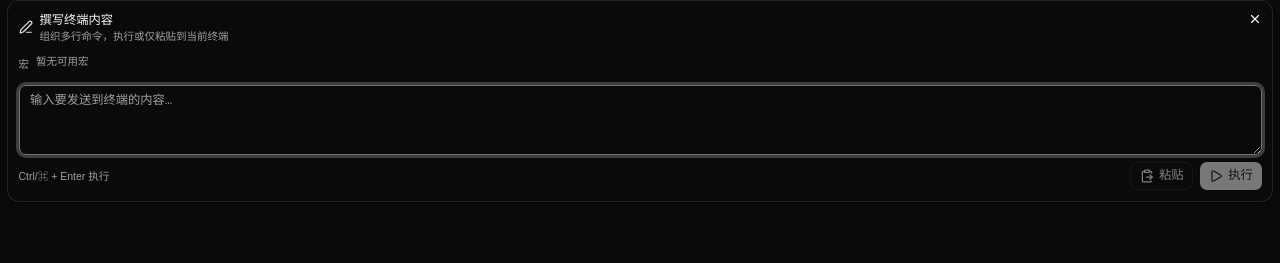
TerminalComposePanel › supports keyboard execution and preserves input when execution fails
Type "whoami" into the text box named "撰写终端内容".
click(640, 120); type("whoami")  # box [18,85,1262,155]
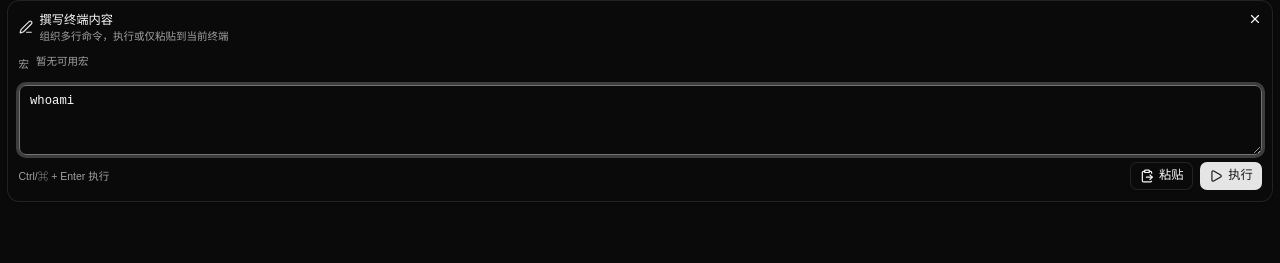
Type keys "{Control>}{Enter}{/Control}"
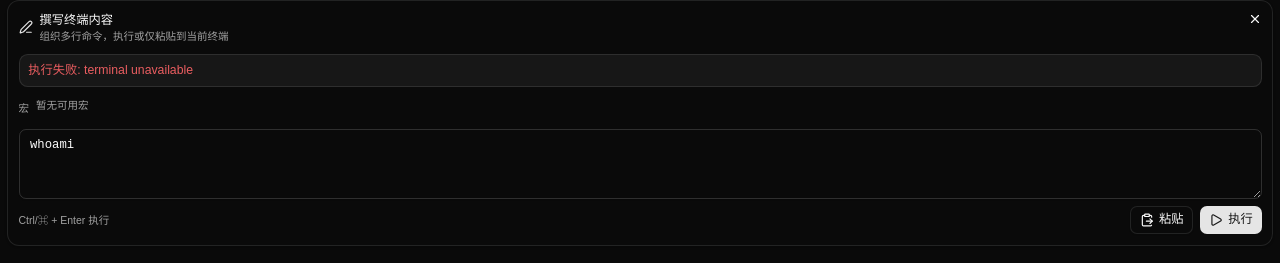
Result: the text "执行失败: terminal unavailable" is shown at [28,62,193,76]
